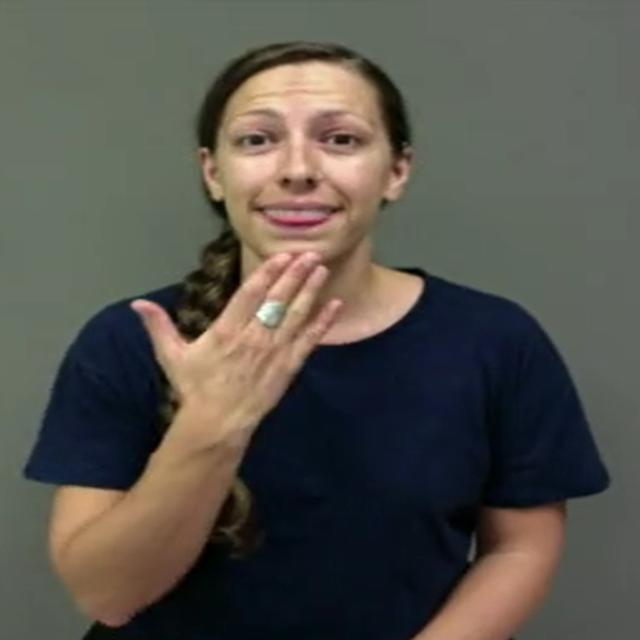thank-you: (132, 250, 345, 411)
